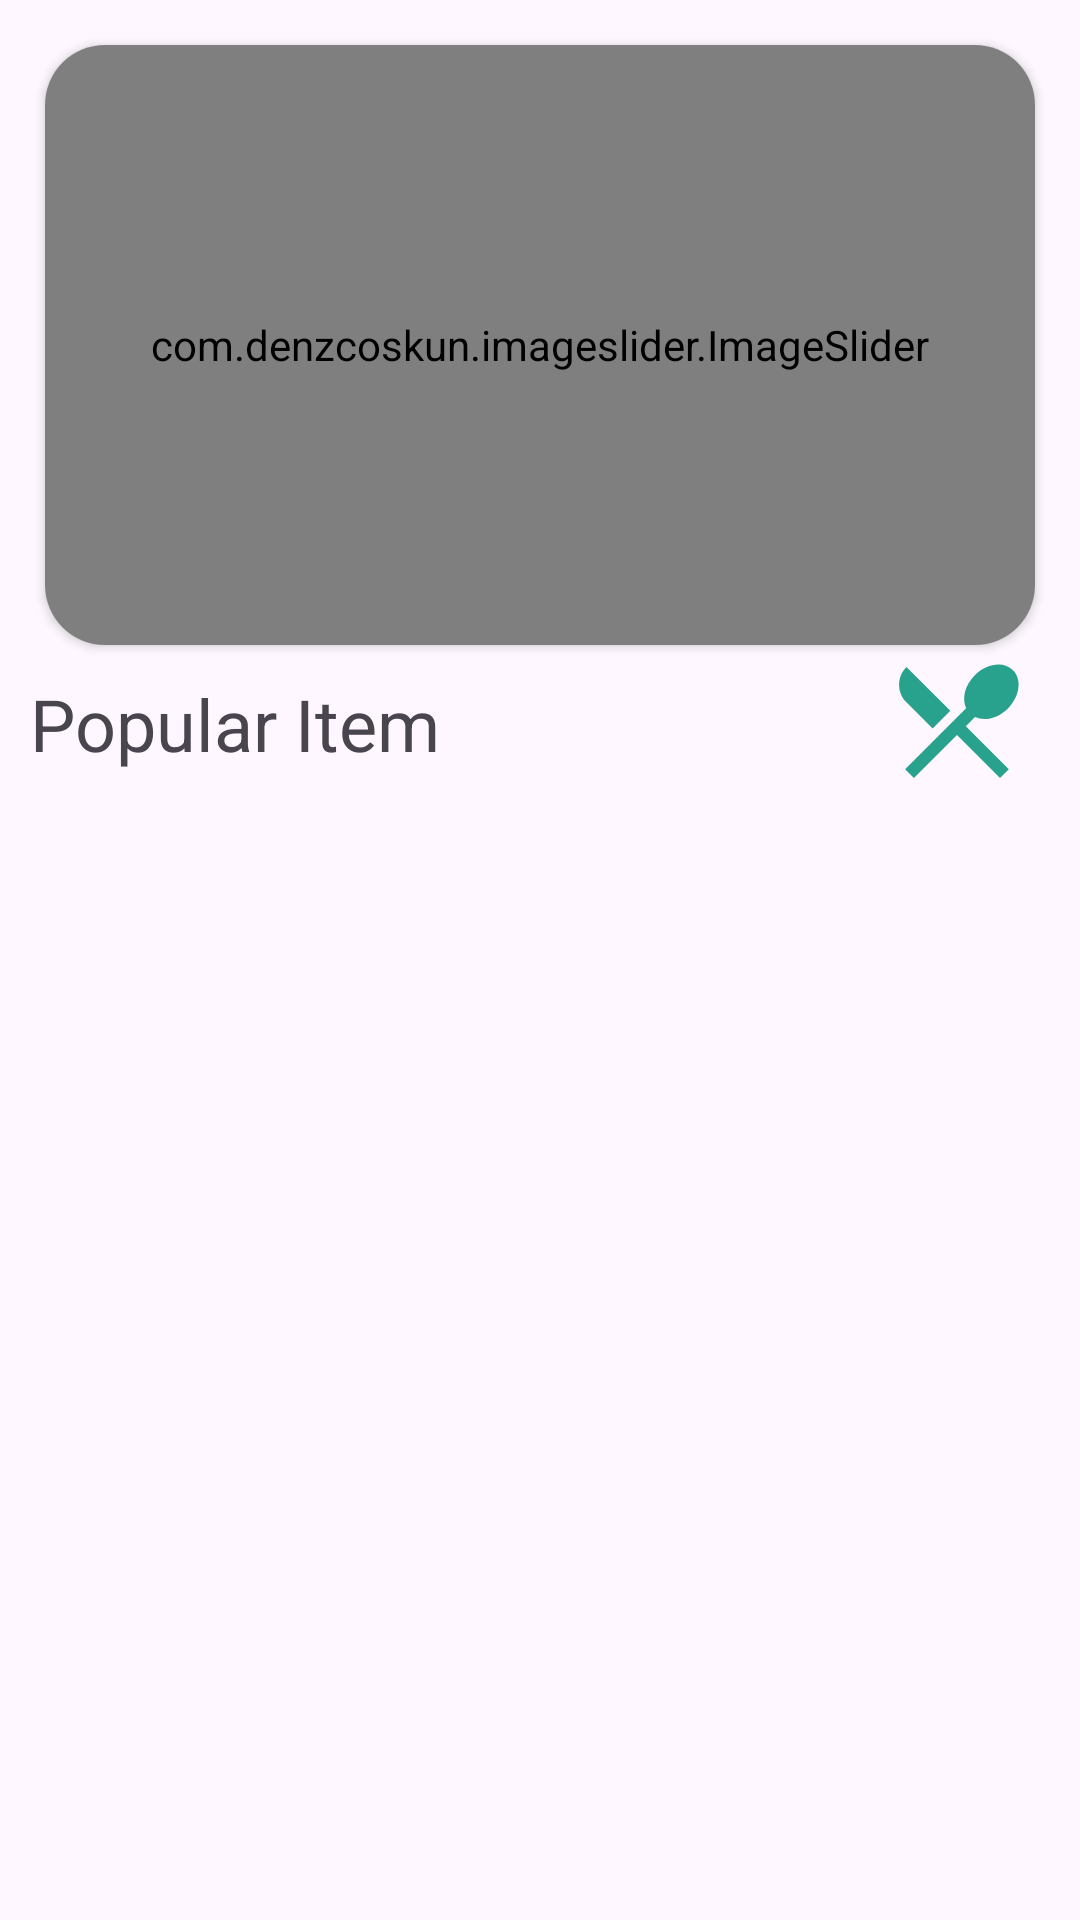

Icon click points for this 1080*1920 phone screenshot, format (x=x, y=y):
restaurant menu: (x=959, y=721)
